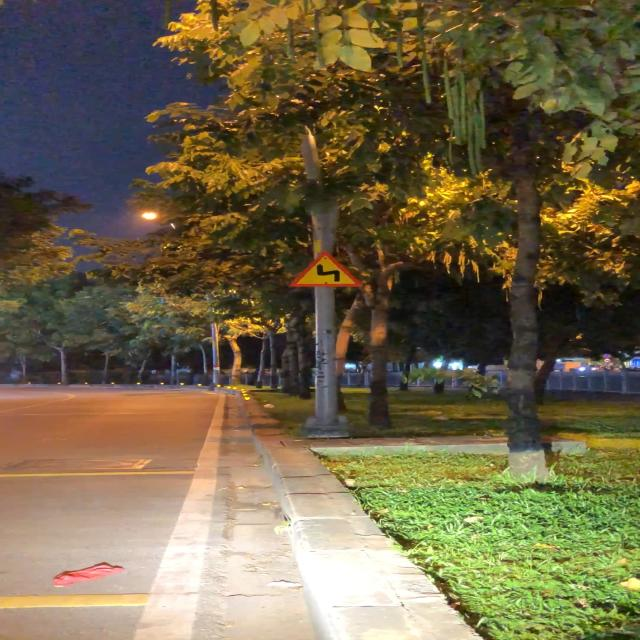Bien bao nhieu cho ngoat nguy hiem lien tiep: (287, 251, 364, 288)
